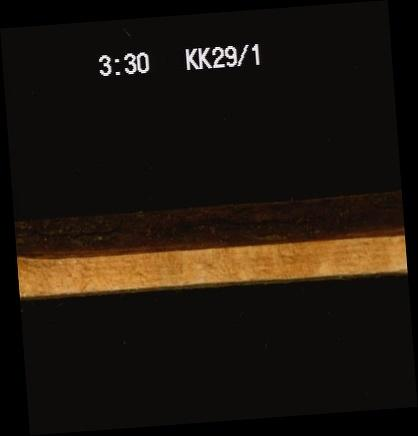wave: (15, 206, 403, 254)
